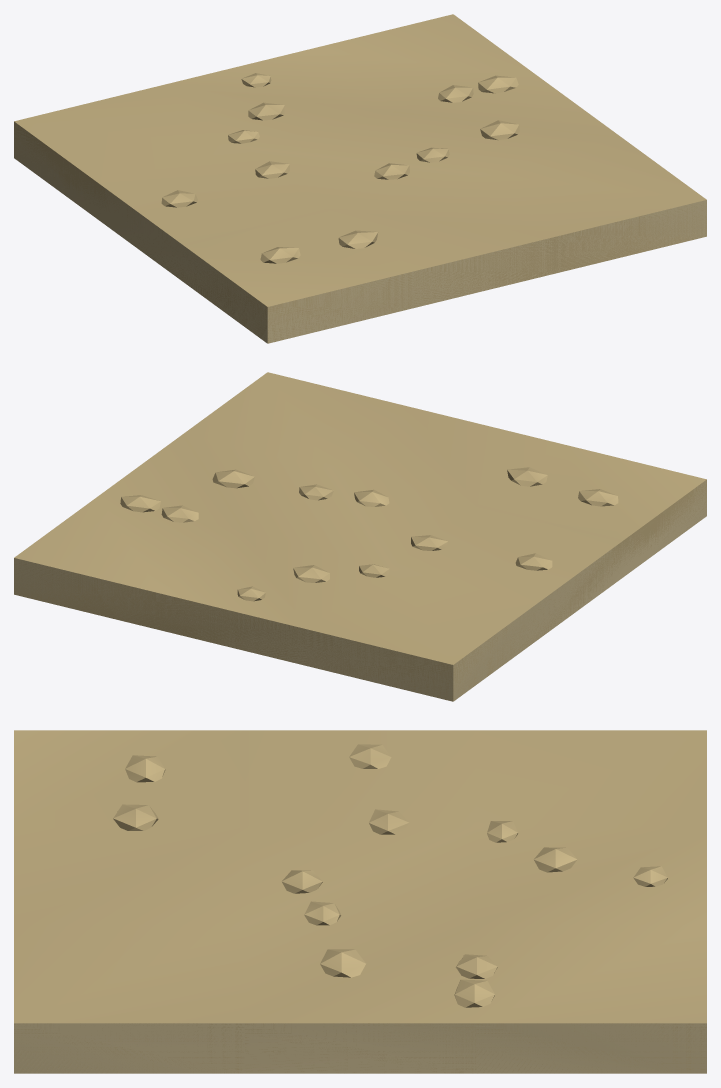
File: terrain.sand.glb
The picture shows the model from 3 angles, top to bottom: view 1: azimuth 30°, elevation 25°; view 2: azimuth 150°, elevation 25°; view 3: azimuth 270°, elevation 25°; orthographic projection. The views are drawn at different scales.
Parts seen in each view (by area): view 1: terrain.sand.v1.mesh, terrain.sand.v0.mesh, terrain.sand.v2.mesh; view 2: terrain.sand.v1.mesh, terrain.sand.v0.mesh, terrain.sand.v2.mesh; view 3: terrain.sand.v1.mesh, terrain.sand.v0.mesh, terrain.sand.v2.mesh.
Boxes of the visible parts, <box> form: terrain.sand.v1.mesh: <box>14,14,706,343</box>; terrain.sand.v0.mesh: <box>14,120,706,343</box>; terrain.sand.v2.mesh: <box>14,75,706,343</box>; terrain.sand.v1.mesh: <box>14,372,706,701</box>; terrain.sand.v0.mesh: <box>14,469,706,701</box>; terrain.sand.v2.mesh: <box>14,467,706,701</box>; terrain.sand.v1.mesh: <box>14,730,706,1073</box>; terrain.sand.v0.mesh: <box>14,821,706,1073</box>; terrain.sand.v2.mesh: <box>14,744,706,1073</box>.
Bounding box in the file's own units: 1 × 0.1014 × 1.
